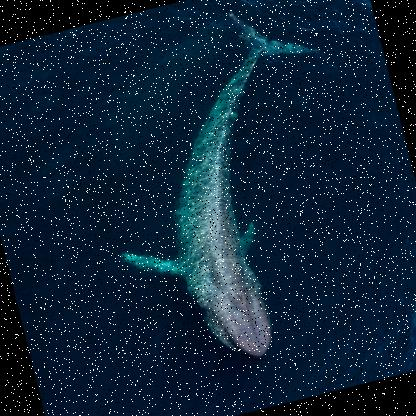blue_whale: (34, 0, 398, 395)
